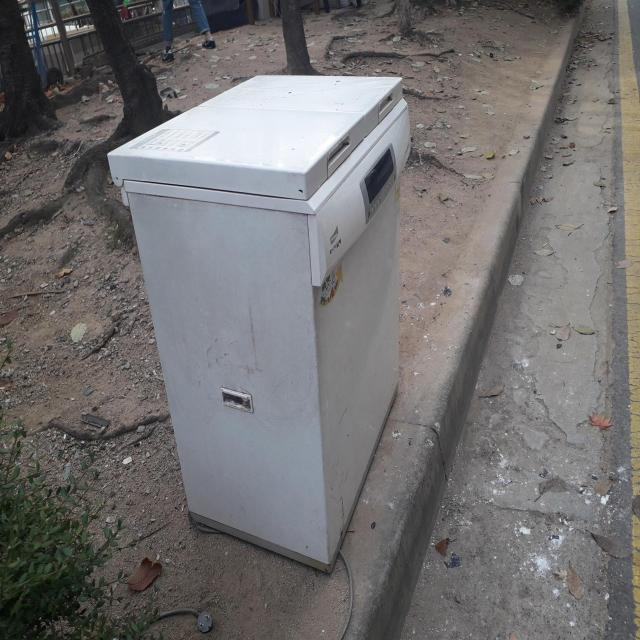refrigerator: (106, 73, 412, 575)
